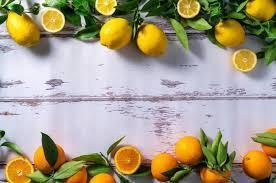lemon: (6, 11, 40, 45), (100, 19, 132, 50), (137, 23, 167, 56), (214, 19, 244, 47), (246, 0, 276, 20), (233, 48, 256, 72), (42, 8, 64, 32), (177, 0, 200, 18), (95, 0, 117, 16)
